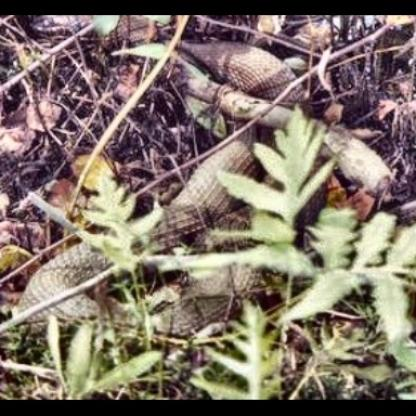Snake: (8, 31, 416, 382)
